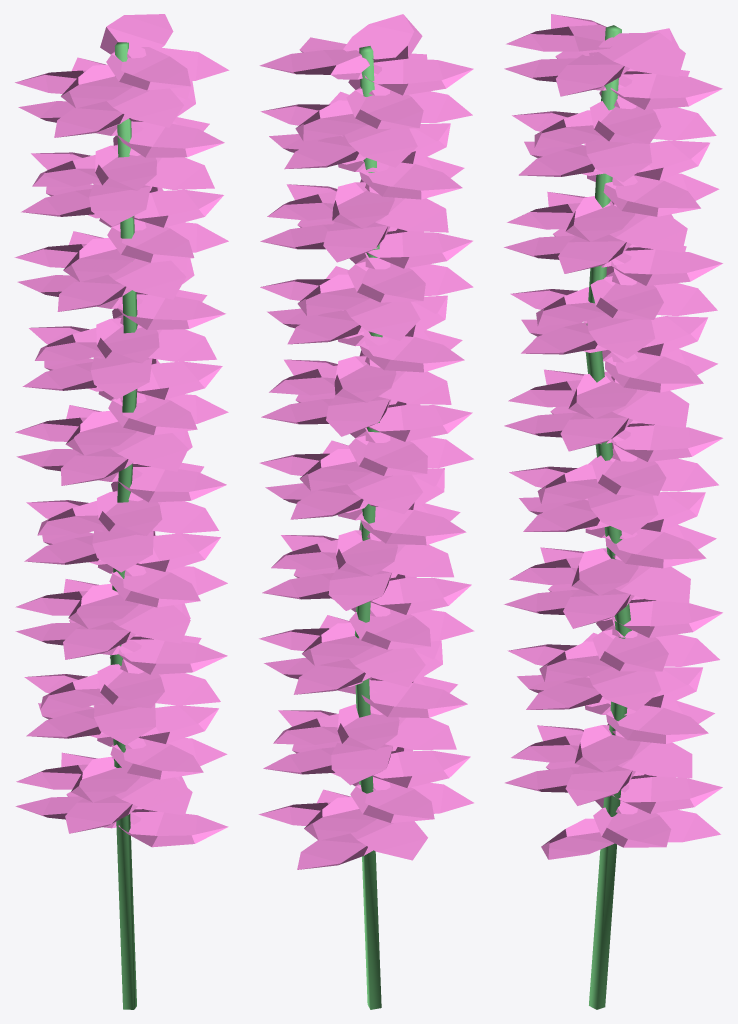
File: GatoinaReskittenAssets.fbx
3 views of the same model, side by side, from view 1: azimuth 30°, elevation 25°; view 2: azimuth 150°, elevation 25°; view 3: azimuth 270°, elevation 25° (orthographic). The views are drawn at different scales.
Visible parts, largest first — view 1: Gatoina; view 2: Gatoina; view 3: Gatoina.
Part boxes in pixels (left/top/right/bottom): Gatoina: left=14, top=14, right=229, bottom=1009; Gatoina: left=258, top=14, right=474, bottom=1009; Gatoina: left=504, top=14, right=722, bottom=1009.
Bounding box in the file's own units: 194 × 958 × 195.
